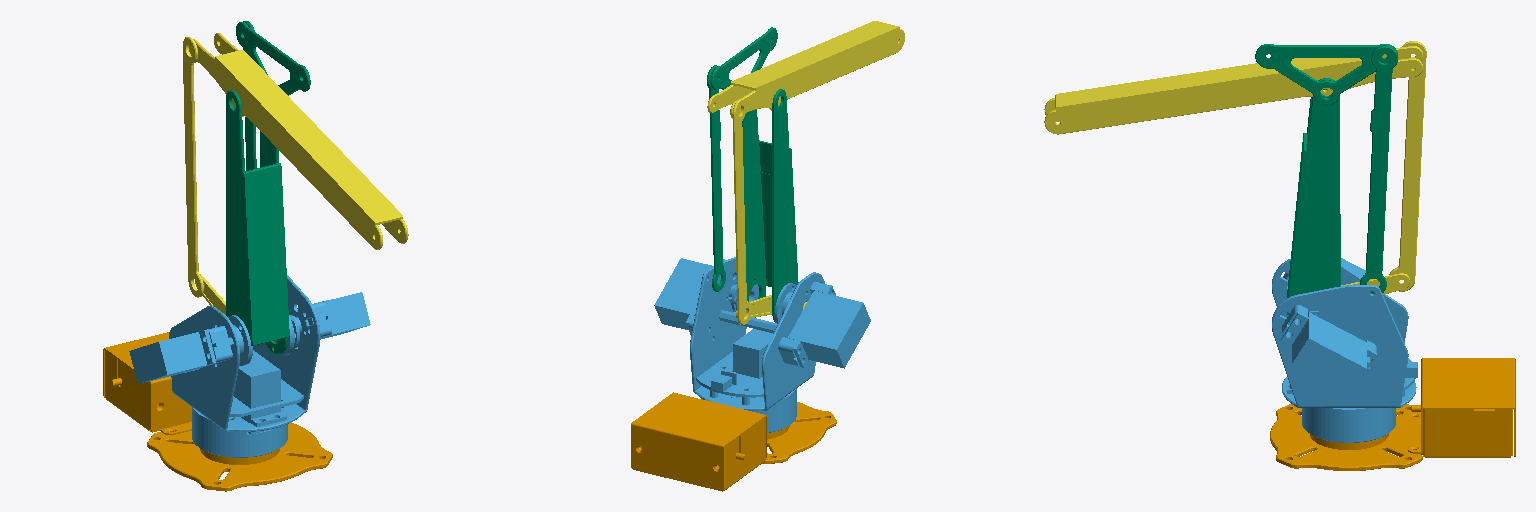
robot.urdf — UArm:
<robot name="UArm">

  <!-- Link 1 -->
  <link name="link1">
    <visual>
      <origin xyz="0 0 0" rpy="0 0 0"/>
      <geometry>
        <mesh filename="package://UArm_description/meshes/Base.stl" scale="0.001 0.001 0.001"/>
      </geometry>
    </visual>
  </link>

  <!-- Joint 1 -->
  <joint name="joint1" type="revolute">
    <parent link="link1"/>
    <child link="link2"/>
    <origin xyz="0 0 0.0095" rpy="0 0 0"/>
    <axis xyz="0 0 1"/>
    <limit lower="-3.14" upper="3.14" effort="1" velocity="1"/>
  </joint>

  <!-- Link 2 -->
  <link name="link2">
    <visual>
      <origin xyz="0 0 0" rpy="0 0 0"/>
      <geometry>
        <mesh filename="package://UArm_description/meshes/Link1.stl" scale="0.001 0.001 0.001"/>
      </geometry>
    </visual>
  </link>

  <!-- Joint 2 -->
  <joint name="joint2" type="revolute">
    <parent link="link2"/>
    <child link="link3"/>
    <origin xyz="0 -0.02 0.075" rpy="0 0 0"/>
    <axis xyz="0 1 0"/>
    <limit lower="-3.14" upper="3.14" effort="1" velocity="1"/>
  </joint>

  <!-- Link 3 -->
  <link name="link3">
    <visual>
      <origin xyz="0 0 0" rpy="0 0 0"/>
      <geometry>
        <mesh filename="package://UArm_description/meshes/Link2.stl" scale="0.001 0.001 0.001"/>
      </geometry>
    </visual>
  </link>

  <!-- Joint 3 -->
  <joint name="joint3" type="revolute">
    <parent link="link3"/>
    <child link="link4"/>
    <origin xyz="0 0.058 0.162" rpy="0 0 0"/>
    <axis xyz="1 0 0"/>
    <limit lower="-3.14" upper="3.14" effort="1" velocity="1"/>
  </joint>

  <!-- Link 4 -->
  <link name="link4">
    <visual>
      <origin xyz="0 0 0" rpy="0 0 0"/>
      <geometry>
        <mesh filename="package://UArm_description/meshes/Link3.stl" scale="0.001 0.001 0.001"/>
      </geometry>
    </visual>
  </link>

  <!-- Joint 4 -->
  <joint name="joint4" type="revolute">
    <parent link="link4"/>
    <child link="link5"/>
    <origin xyz="0 -0.21 -0.035" rpy="0 0 0"/>
    <axis xyz="0 1 0"/>
    <limit lower="-3.14" upper="3.14" effort="1" velocity="1"/>
  </joint>

  <!-- Link 5 -->
  <link name="link5">
    <visual>
      <origin xyz="0 0 0" rpy="0 0 0"/>
      <geometry>
        <mesh filename="package://UArm_description/meshes/Link4.stl" scale="0.001 0.001 0.001"/>
      </geometry>
    </visual>
  </link>

</robot>

--- What the picture shows (computed from the rendered views, not written in the file) ---
3 views of the same robot in one strip: view 1: azimuth 30°, elevation 25°; view 2: azimuth 150°, elevation 25°; view 3: azimuth 270°, elevation 25° (orthographic).
Robot: UArm — 5 links, 4 joints (4 revolute); root link link1; default pose: every joint at zero.
Links seen in each view (by area): view 1: link2, link4, link3, link1; view 2: link2, link1, link3, link4; view 3: link2, link4, link3, link1.
Boxes of the visible links, x1,y1,x2,y2 form: link2: (129, 275, 370, 457); link4: (183, 33, 408, 314); link3: (226, 21, 310, 354); link1: (103, 332, 332, 491); link2: (654, 257, 870, 432); link1: (631, 392, 836, 491); link3: (707, 27, 798, 319); link4: (707, 21, 904, 324); link2: (1272, 258, 1417, 442); link4: (1044, 41, 1426, 294); link3: (1255, 44, 1397, 314); link1: (1270, 358, 1515, 470).
Size in the robot's own frame: 0.137 by 0.2794 by 0.2648 metres.
4 mesh visuals loaded from 5 distinct referenced files (4 binary STL); not drawn: 1 (reference not matched to a file when rendering).